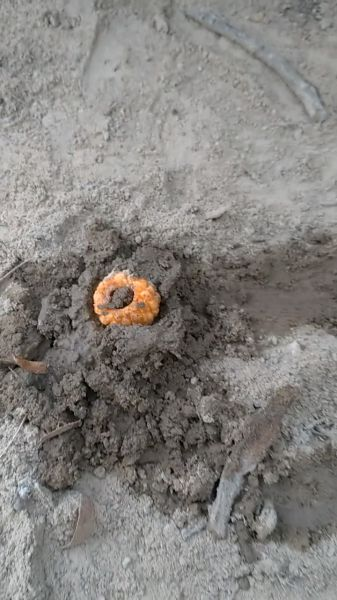eggs: (91, 264, 164, 333)
